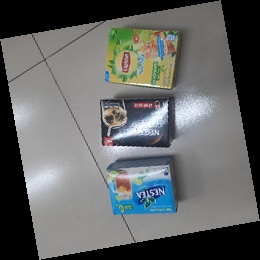CF Viet: (99, 95, 173, 150)
LipTon: (105, 26, 181, 91)
Nestea: (106, 158, 179, 218)
